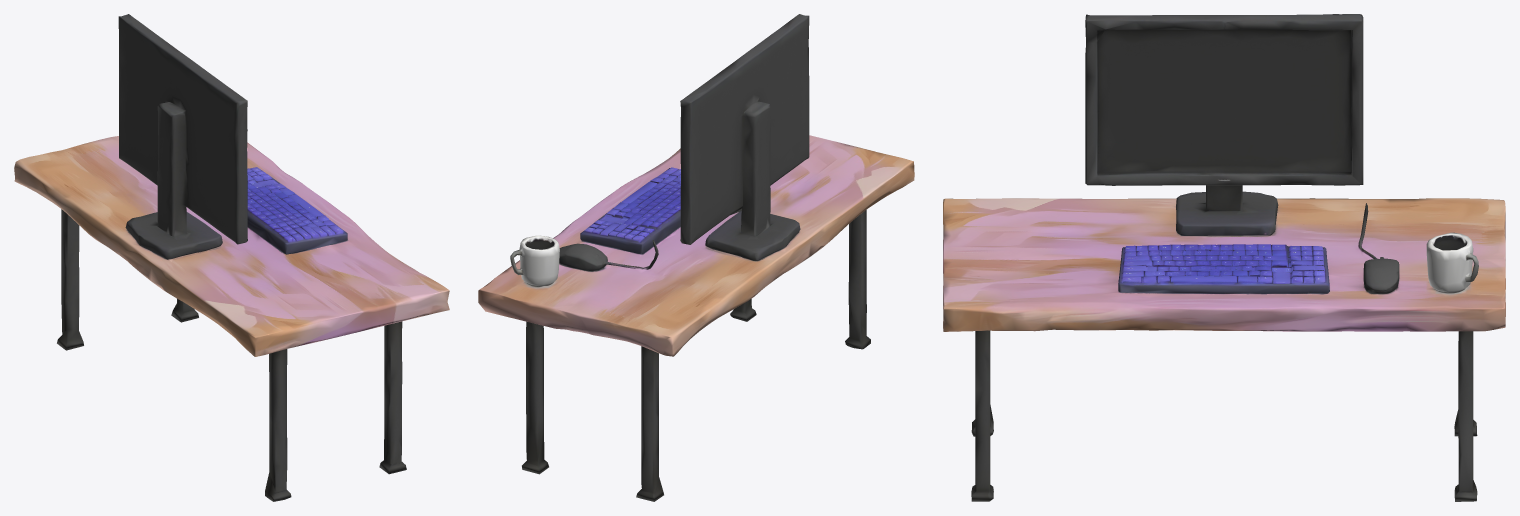
The model's file is desk.glb.
The picture shows the model from 3 angles, left to right: view 1: azimuth 30°, elevation 25°; view 2: azimuth 150°, elevation 25°; view 3: azimuth 270°, elevation 25°; orthographic projection. The views are drawn at different scales.
Parts seen in each view (by area): view 1: tripo_node_1dda6601-e6b9-4063-869b-a972d0399f49; view 2: tripo_node_1dda6601-e6b9-4063-869b-a972d0399f49; view 3: tripo_node_1dda6601-e6b9-4063-869b-a972d0399f49.
Boxes of the visible parts, x1,y1,x2,y2 form: tripo_node_1dda6601-e6b9-4063-869b-a972d0399f49: (14,14,449,501); tripo_node_1dda6601-e6b9-4063-869b-a972d0399f49: (478,14,914,501); tripo_node_1dda6601-e6b9-4063-869b-a972d0399f49: (943,14,1505,501).
Bounding box in the file's own units: 0.4656 × 0.823 × 1.
1 material, 1 textured.
